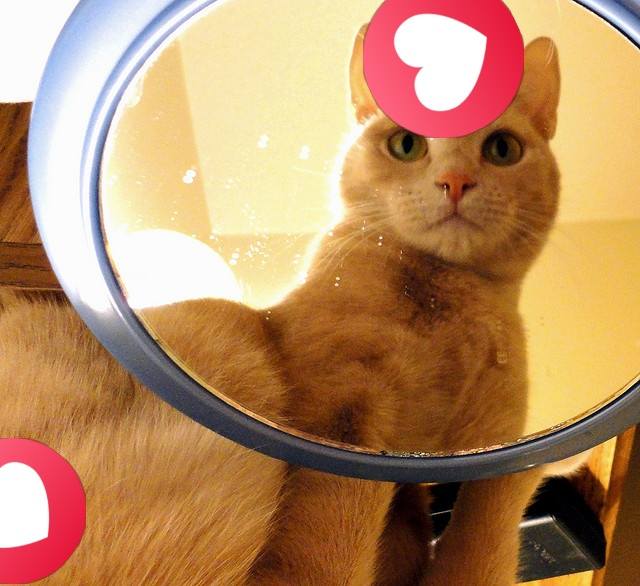love: (363, 0, 524, 138), (0, 438, 86, 584)
